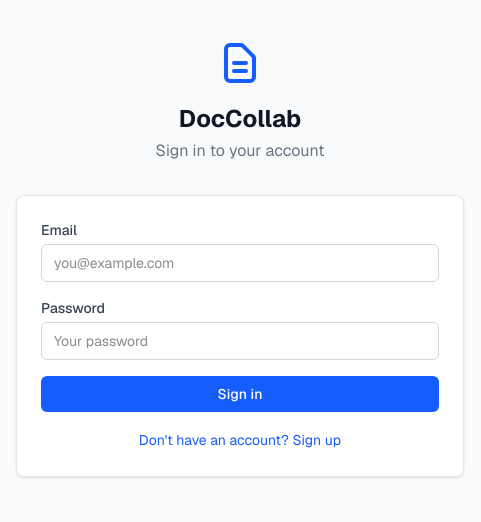
Test: Login Page › displays error message on failed login
This screenshot has width=481, height=522.
Type "wrong@example.com" into the field labelled "Email".
click(240, 263); type("wrong@example.com")  # box 41,244 -> 439,282
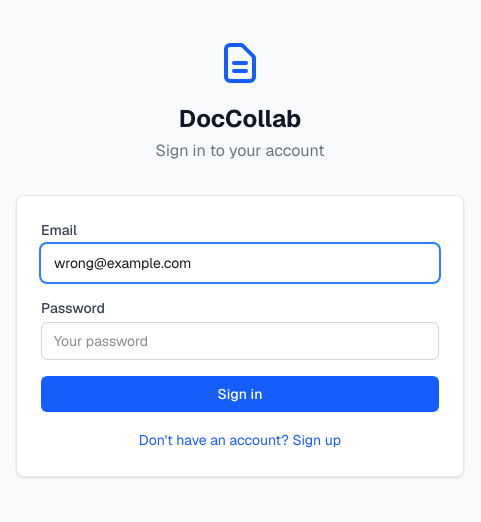
Type "wrongpass" into the password field labelled "Password".
click(240, 341); type("wrongpass")  # box 41,322 -> 439,360
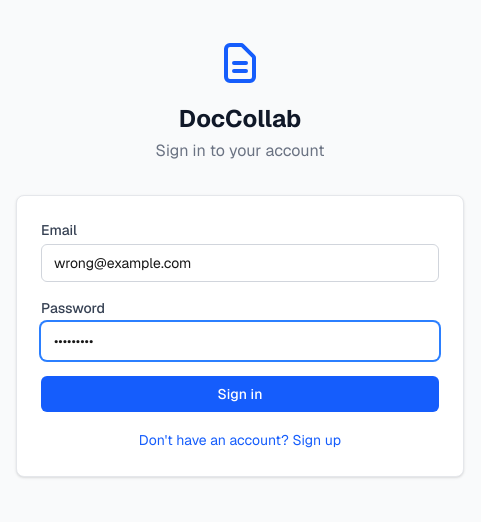
Click the button "Sign in".
click(240, 394)  # box 41,376 -> 439,412
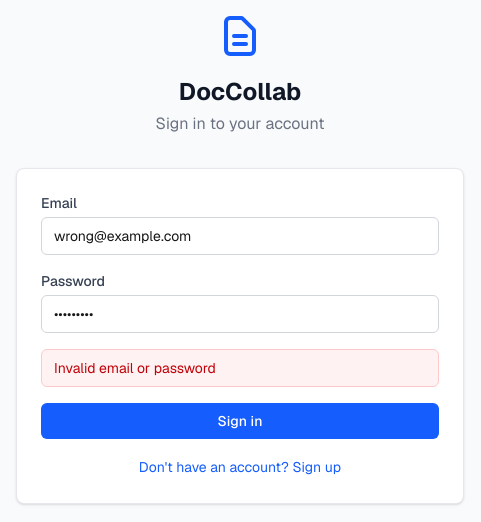
Expected: the text "Invalid email or password" is shown, 41,349 -> 439,387
